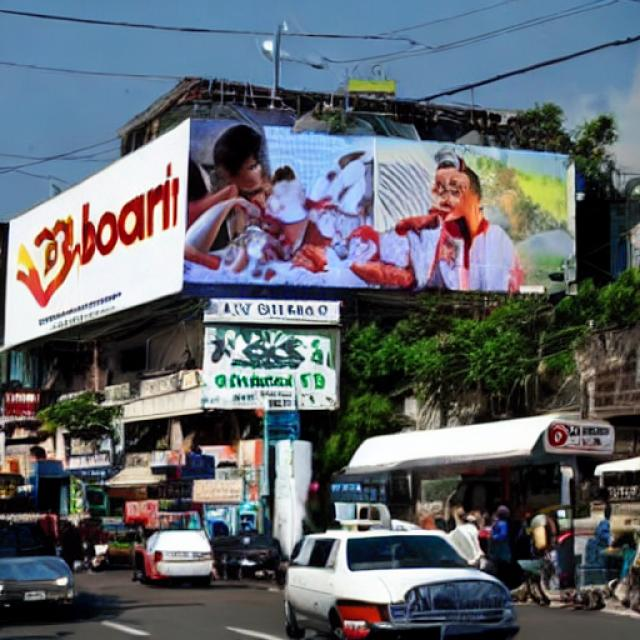Billboard: (187, 114, 585, 302), (4, 118, 186, 360)
